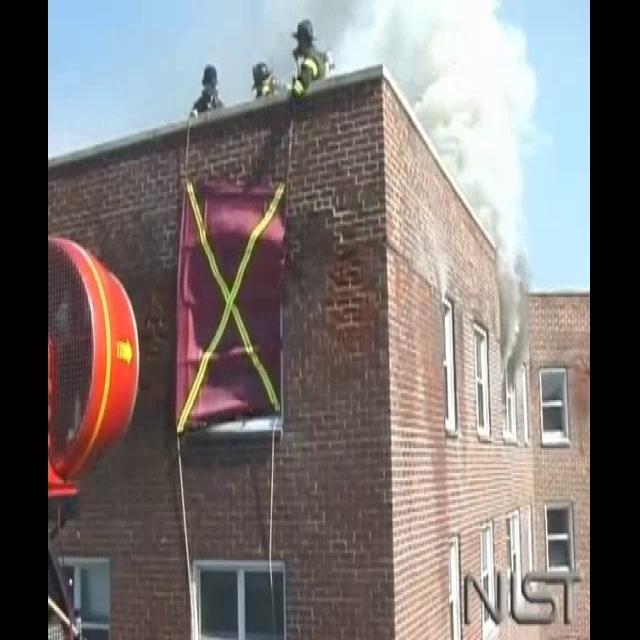Smoke: (368, 1, 544, 399)
